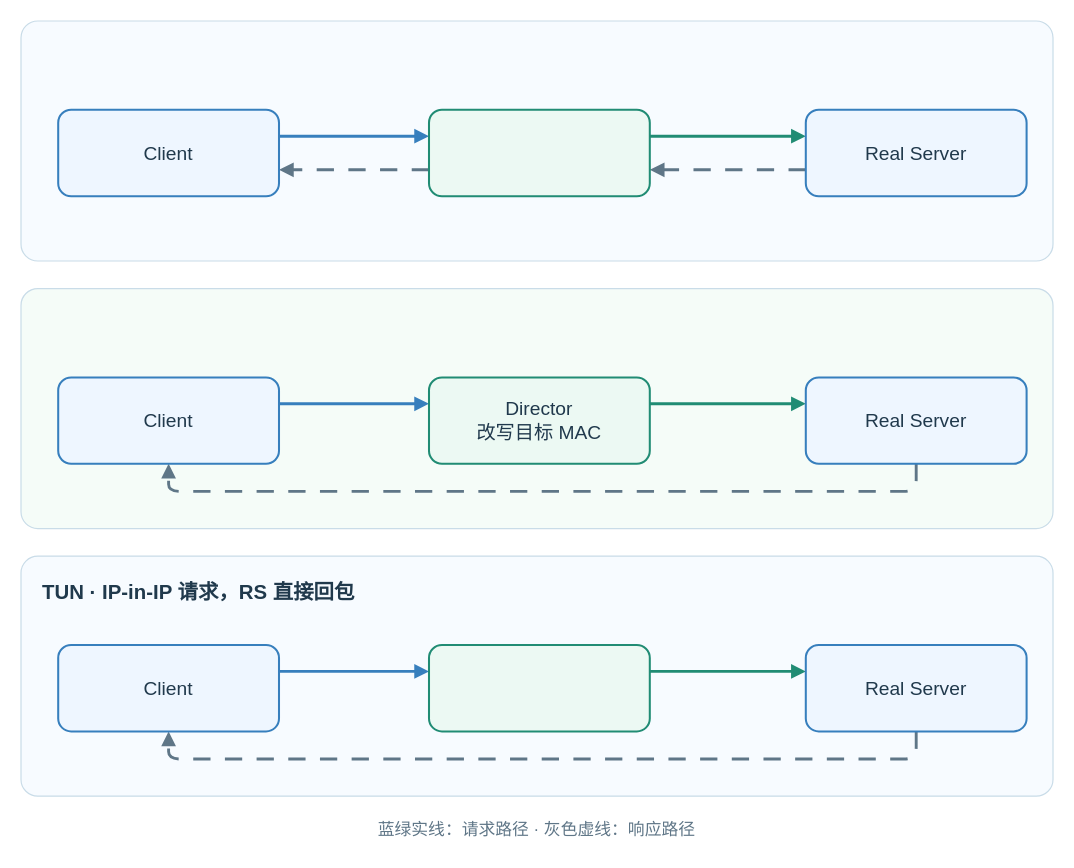
Image size: 1074x868. Some labels were removed from this diagram. The box of each missing label's shape, as (x1, y1, x2, y2) in pixels:
Director DNAT / 回程 SNAT: (427, 108, 650, 197)
Director IP-in-IP 封装: (427, 643, 650, 732)
DR · 请求经 Director，RS 直接回包: (20, 287, 1053, 529)
NAT · 请求和响应经 Director: (20, 20, 1053, 261)
